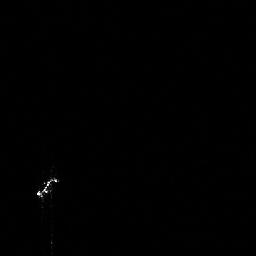ship: (34, 173, 60, 206)
